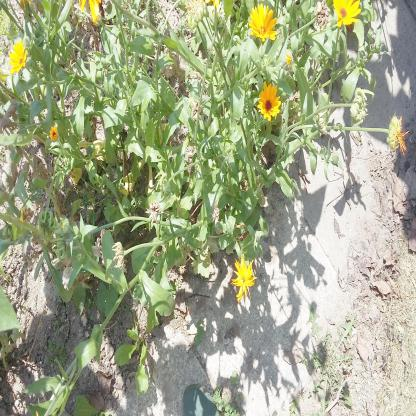marigold: (230, 251, 258, 308), (256, 74, 282, 125), (248, 2, 278, 45), (329, 0, 363, 27), (7, 41, 28, 74)
